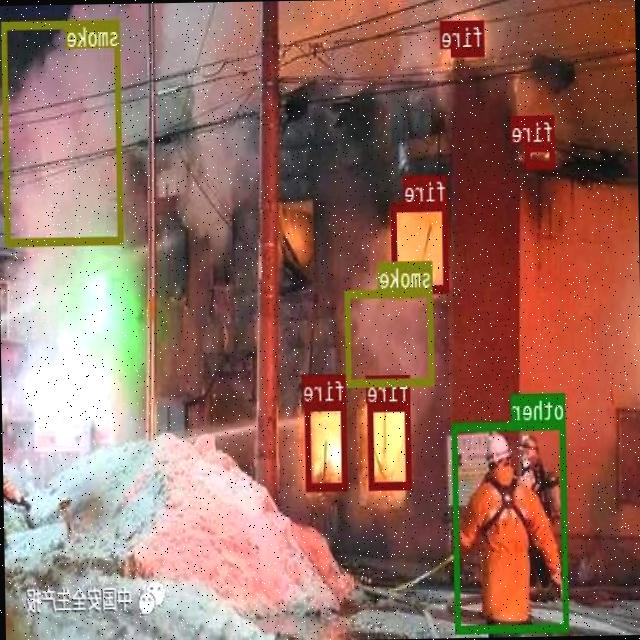fire: (392, 200, 450, 291), (368, 402, 412, 488), (306, 400, 348, 490), (451, 18, 485, 56), (526, 141, 555, 167)
smoke: (2, 18, 124, 244), (346, 287, 435, 386)
